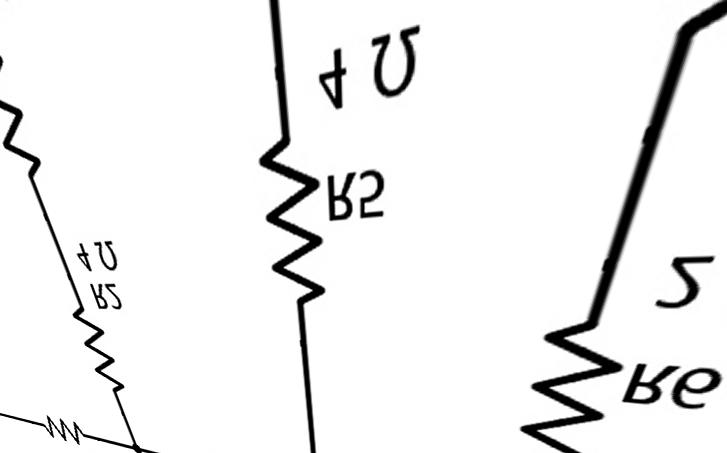resistor: (241, 111, 329, 325), (503, 285, 615, 451), (56, 304, 138, 404), (24, 418, 93, 451)
